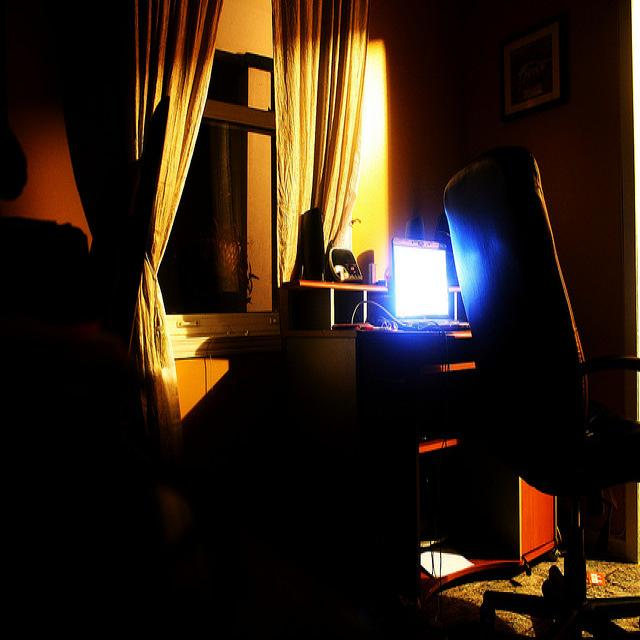Table: (46, 253, 539, 623)
chair: (438, 141, 640, 576)
